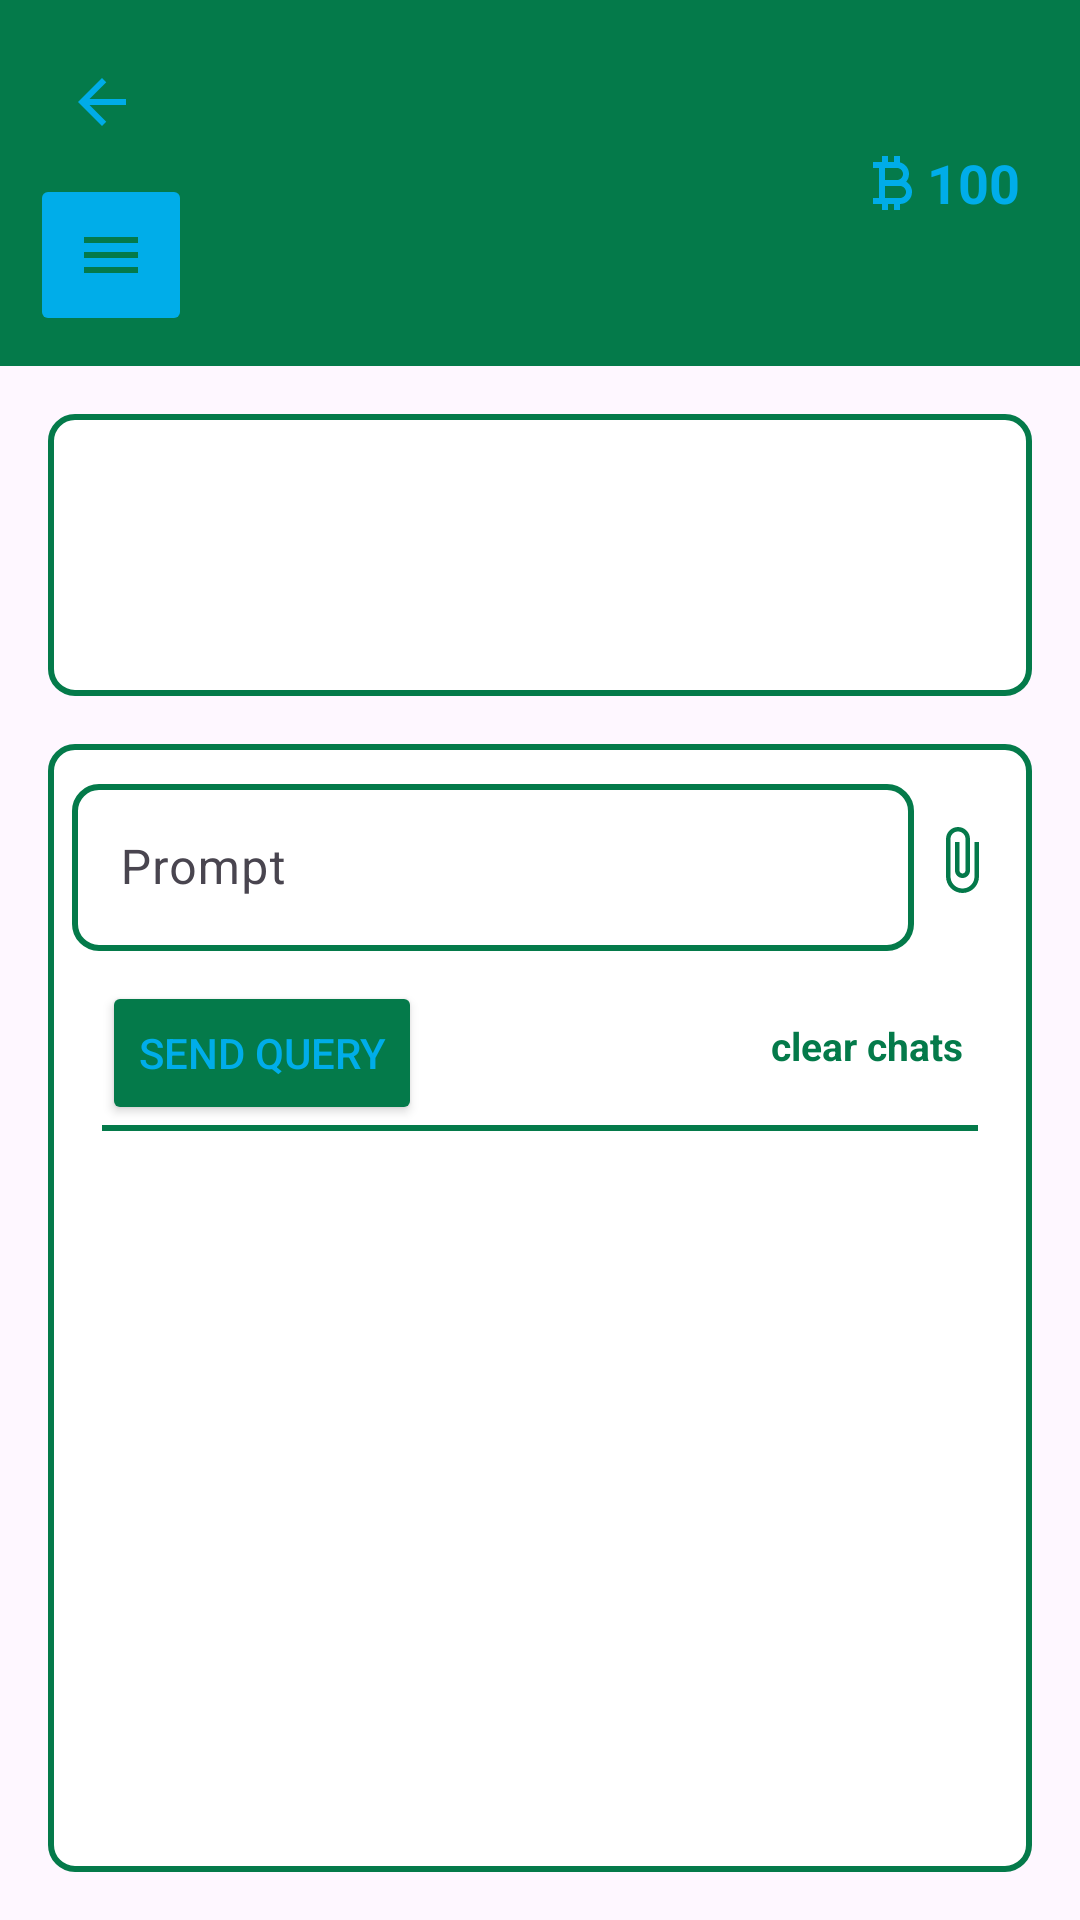

Point at icon controls on the screen. Image size 1080*1920, points as [x,y].
arrow back: [102,102]
attach file: [962,860]
others: [111,255]
